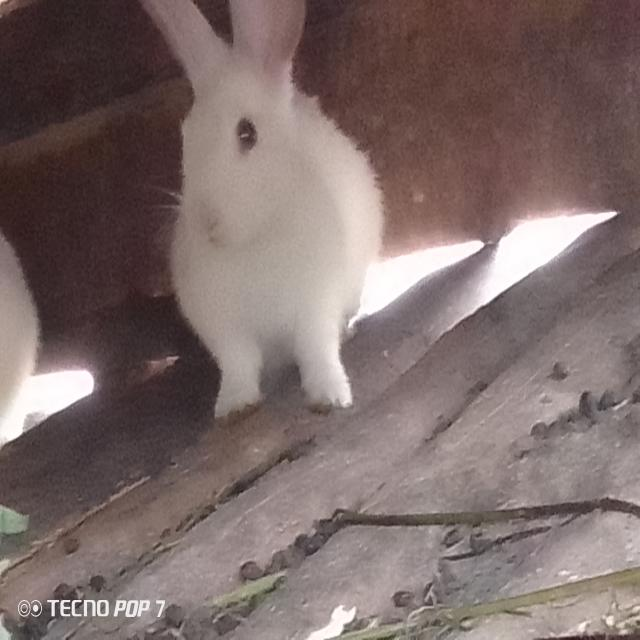rabbit: (121, 0, 396, 441)
